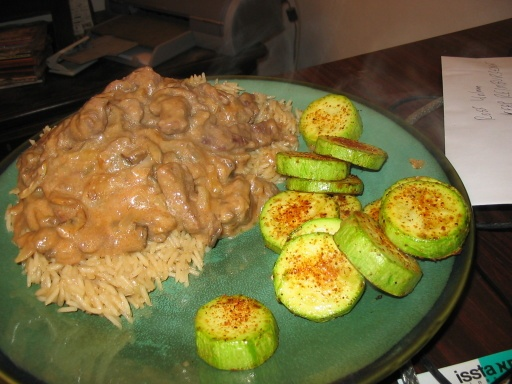background: (4, 40, 376, 197), (68, 46, 223, 222)
